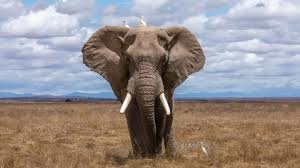Elephant: (71, 13, 209, 158)
